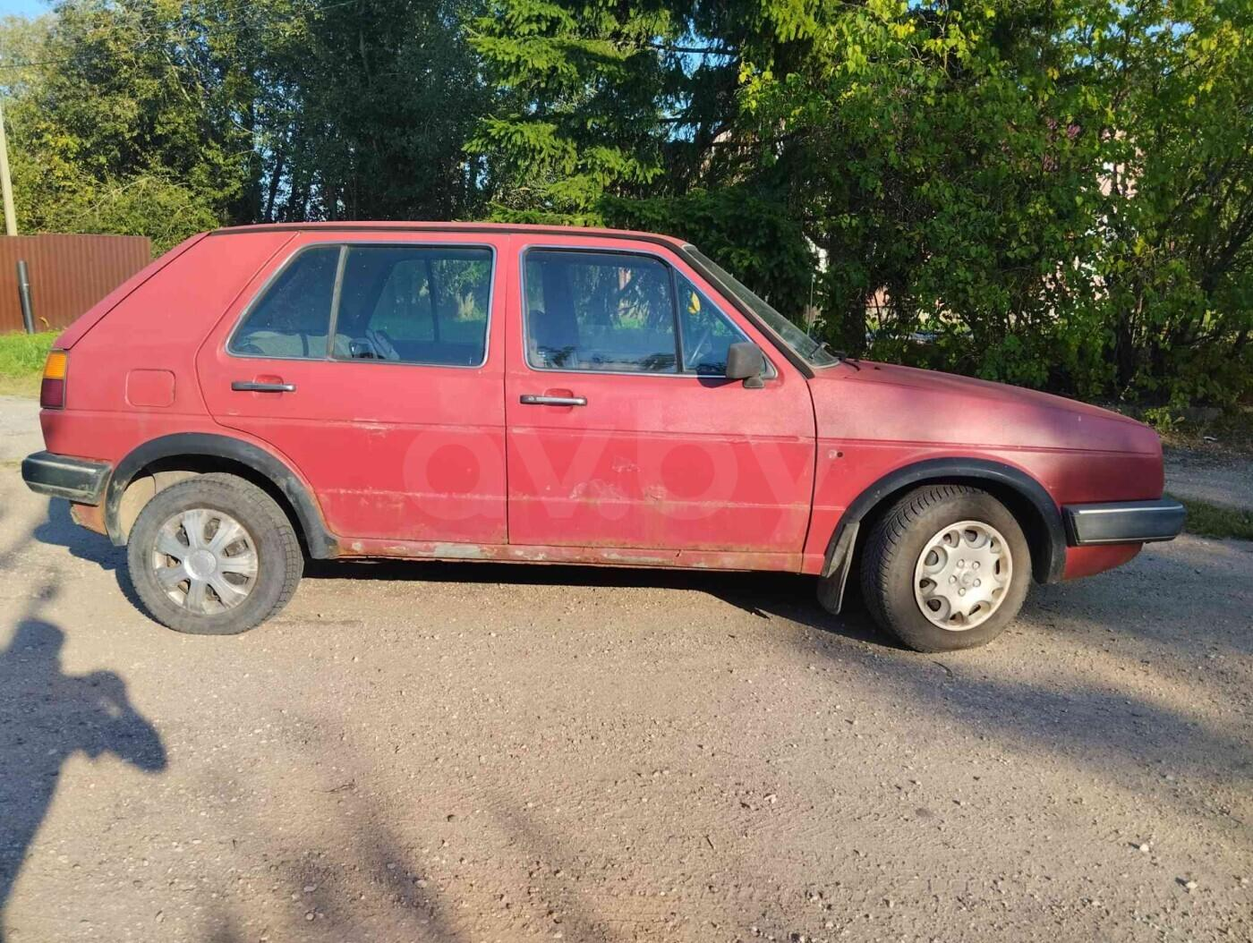Golf_1983-1992: (18, 203, 1230, 654)
